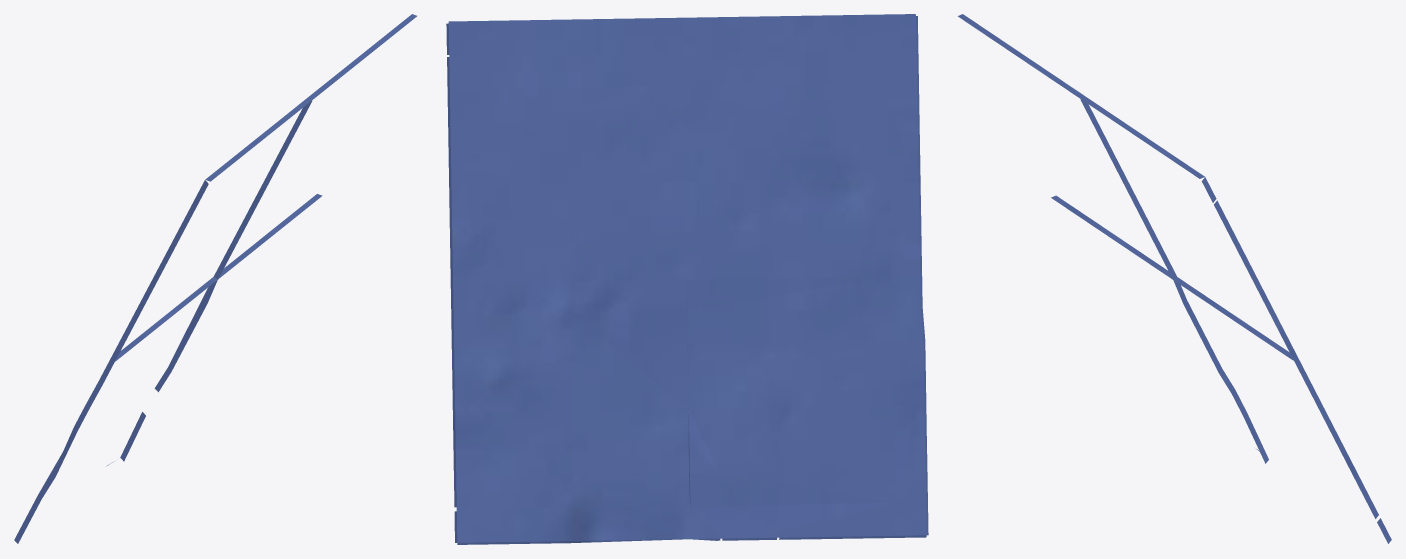
3 views of the same model, side by side, from view 1: azimuth 30°, elevation 25°; view 2: azimuth 150°, elevation 25°; view 3: azimuth 270°, elevation 25° (orthographic). The views are drawn at different scales.
Bounding box in the file's own units: 39453 × 35694 × 33688.
Materials: 1 (1 with a texture image).
